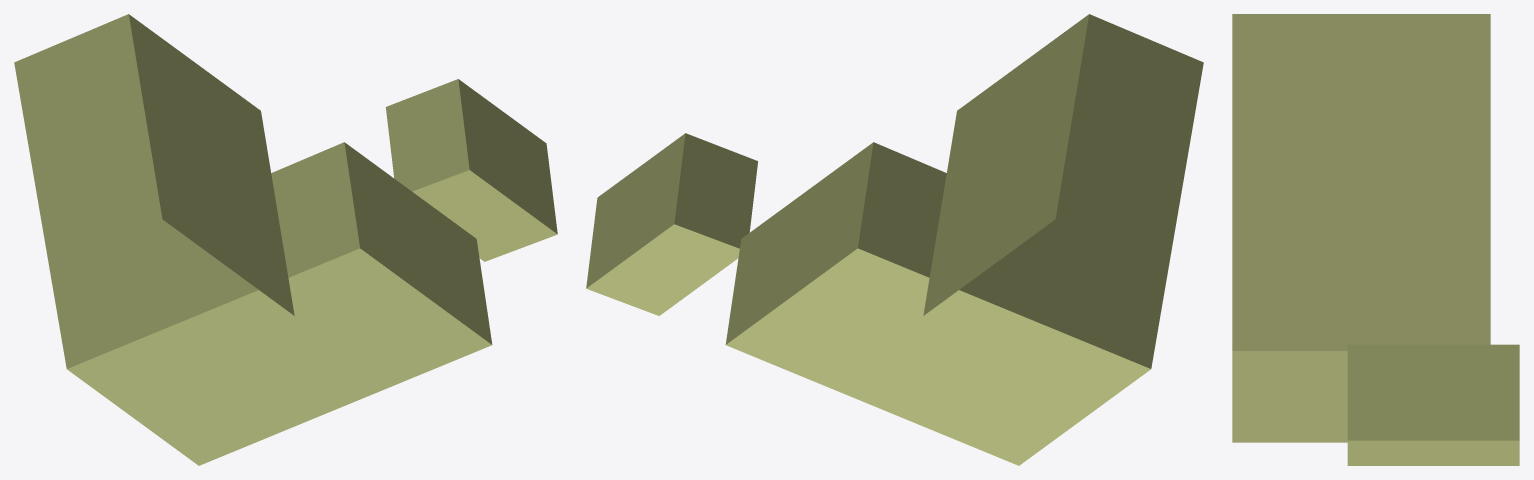
3 renders of one model, left to right at view 1: azimuth 30°, elevation 25°; view 2: azimuth 150°, elevation 25°; view 3: azimuth 270°, elevation 25°, orthographic. The views are drawn at different scales.
Parts seen in each view (by area): view 1: 0_1_2_3_3_3_3_0_0_2; view 2: 0_1_2_3_3_3_3_0_0_2; view 3: 0_1_2_3_3_3_3_0_0_2.
Boxes of the visible parts, x1,y1,x2,y2 form: 0_1_2_3_3_3_3_0_0_2: [14, 14, 557, 465]; 0_1_2_3_3_3_3_0_0_2: [586, 14, 1203, 465]; 0_1_2_3_3_3_3_0_0_2: [1232, 14, 1519, 465].
Bounding box in the file's own units: 18.49 × 12.77 × 10.02.
